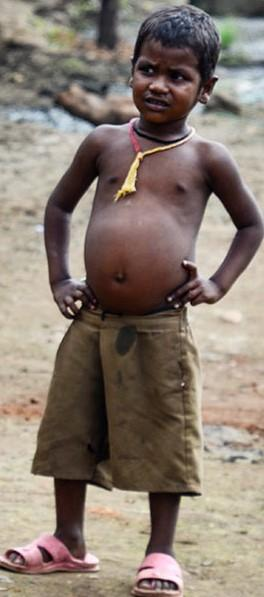Stunting: (73, 0, 227, 130)
